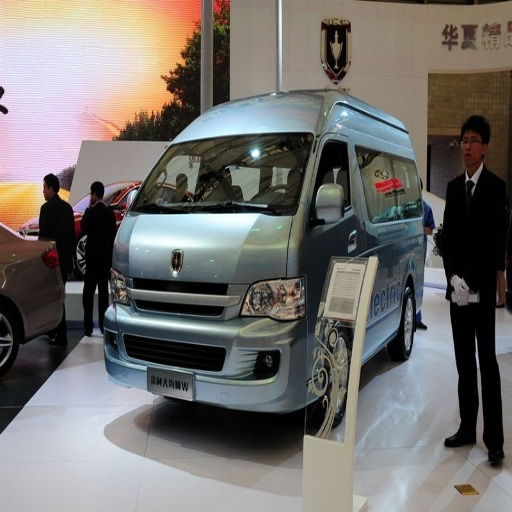front_bumper: (103, 275, 322, 414)
front_glass: (130, 133, 311, 213)
front_left_door: (306, 113, 378, 332)
